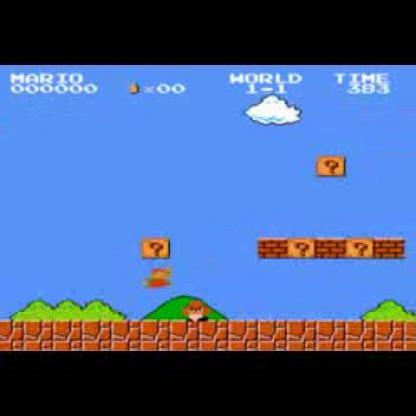Goomba: (183, 298, 209, 323)
